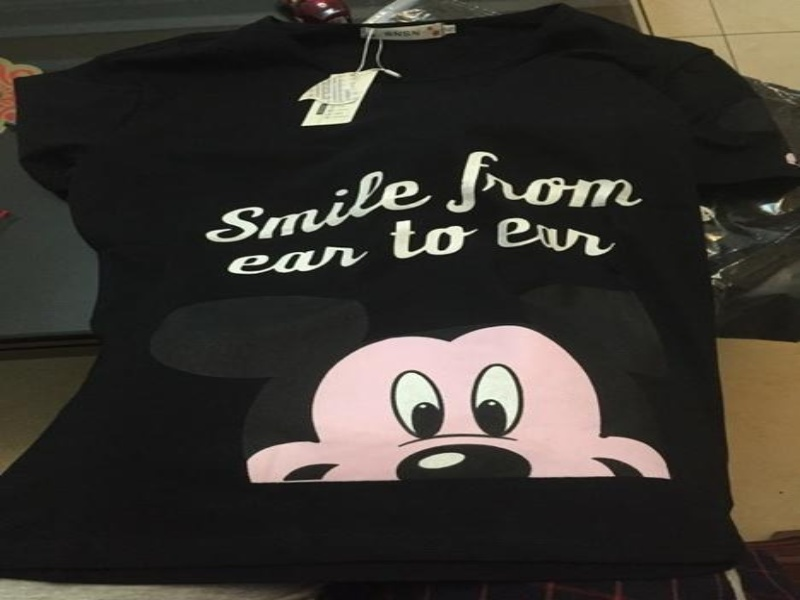short_sleeved_dress: (0, 4, 797, 591)
